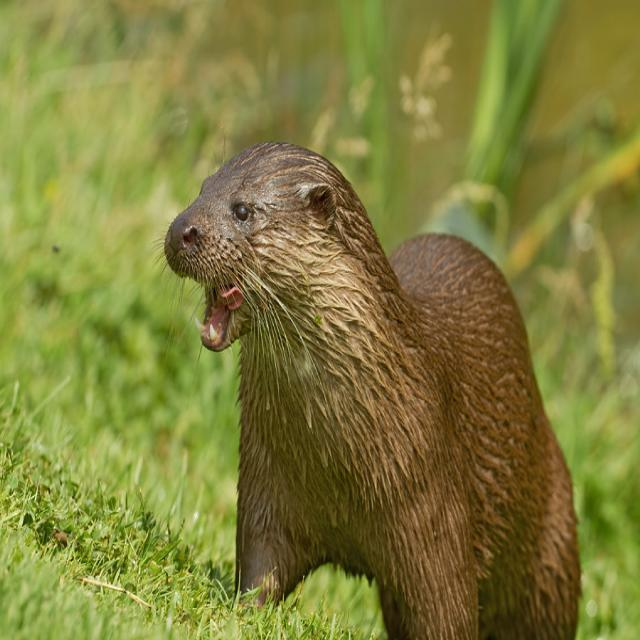otter: (165, 144, 422, 440)
